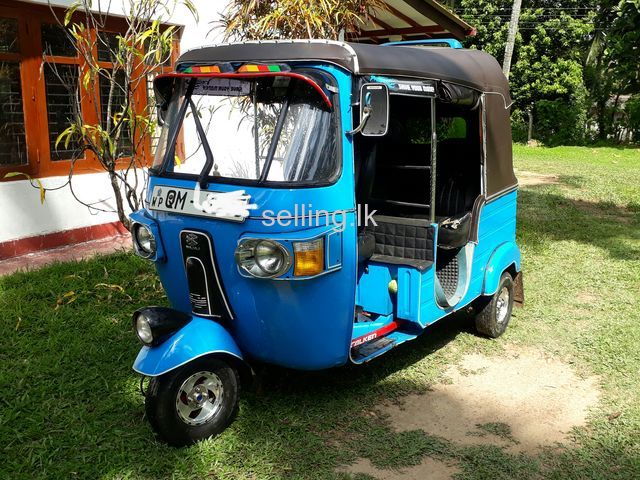threewheel: (131, 37, 525, 448)
